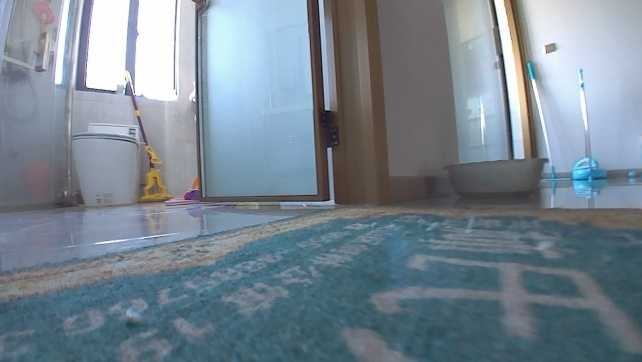blanket: (0, 204, 640, 360)
door_anno: (191, 0, 330, 203)
toilet: (69, 121, 145, 206)
